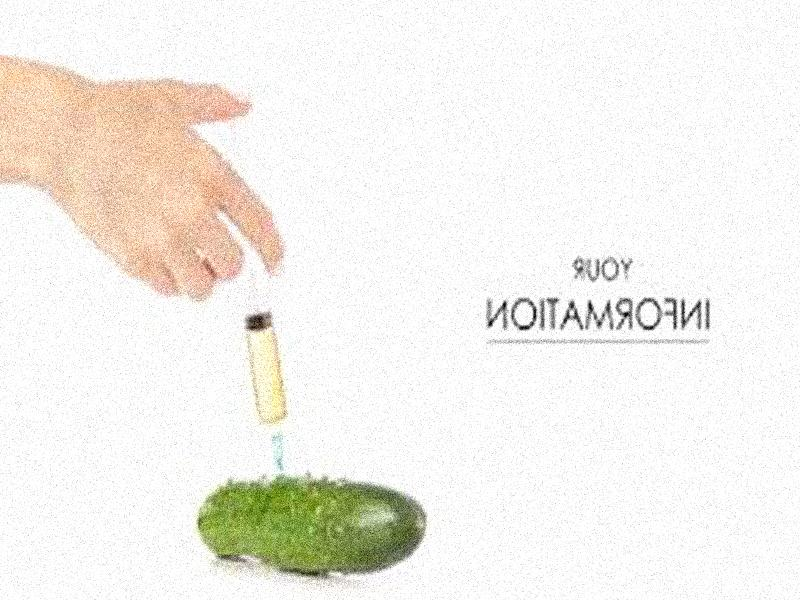Cucumber: (194, 475, 425, 569)
